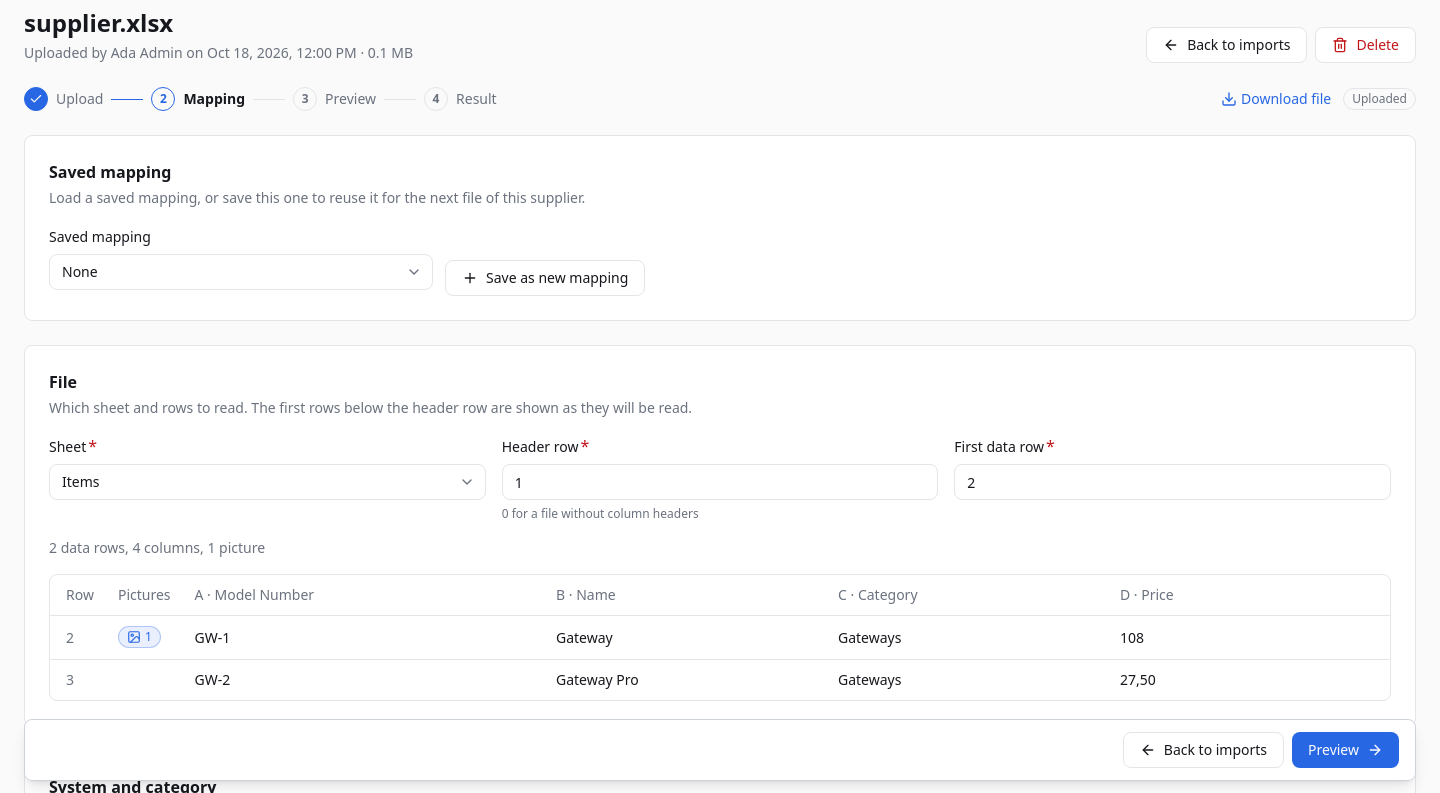
Test: ImportRunPage: mapping › reloads the source for another header row and shows mapping errors at their rows
Replace the text in the number field labelled "Header row" with "3" at (720, 482), box [502, 464, 938, 500]
(page scrolled)
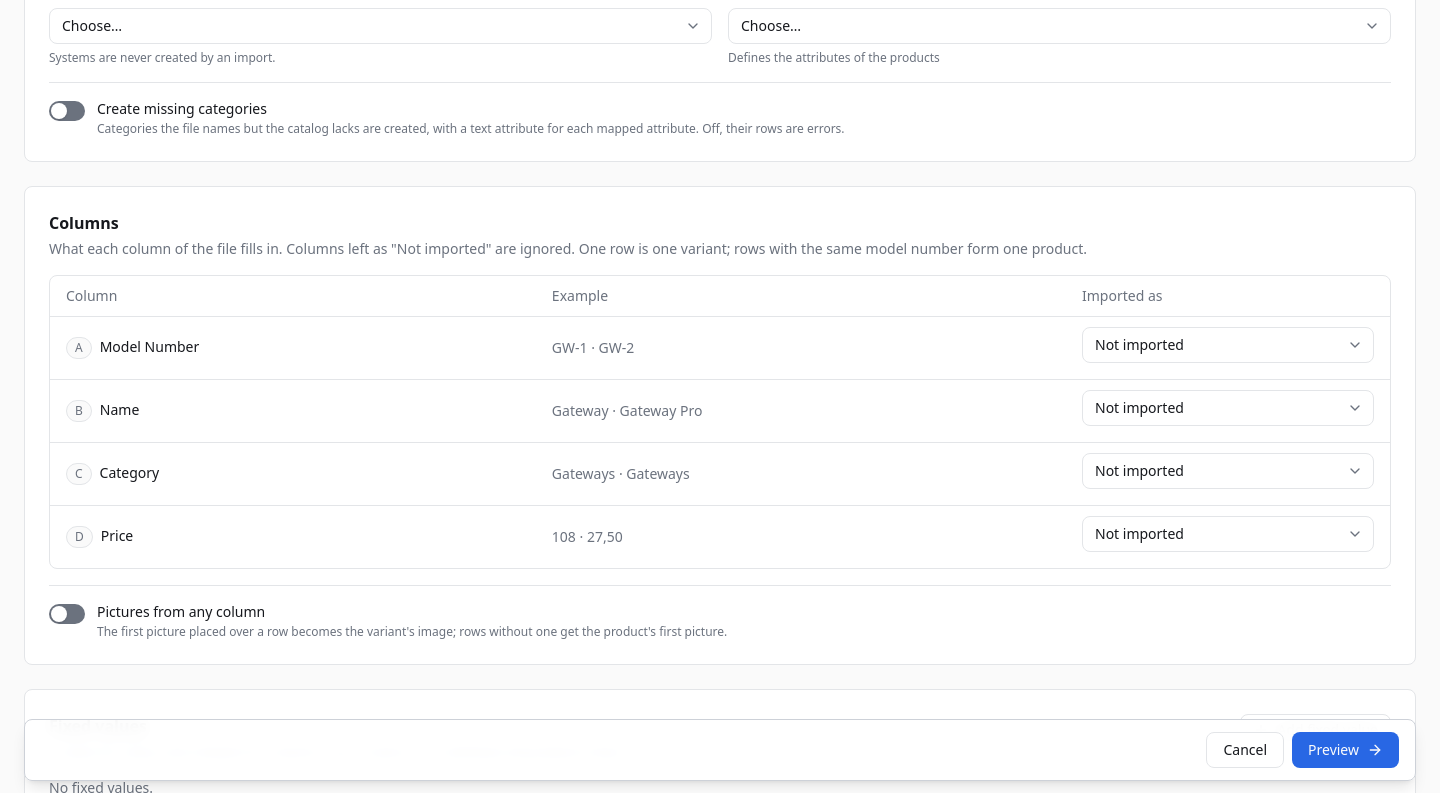
Click the dropdown named "Imported as: Model Number" at (1139, 344), box [1082, 327, 1374, 363]
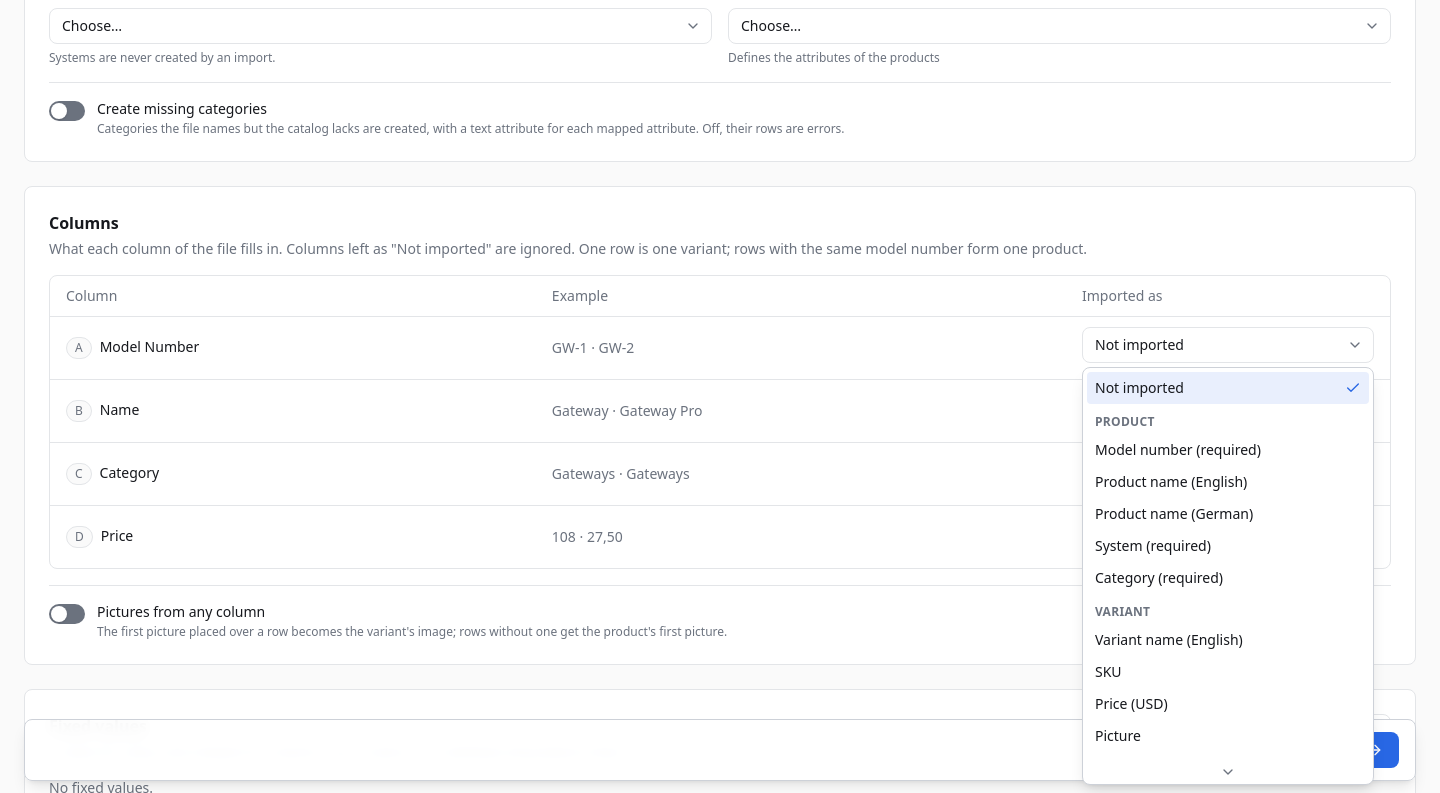
Click the option "Model number (required)" at (1178, 450), box [1095, 440, 1261, 459]
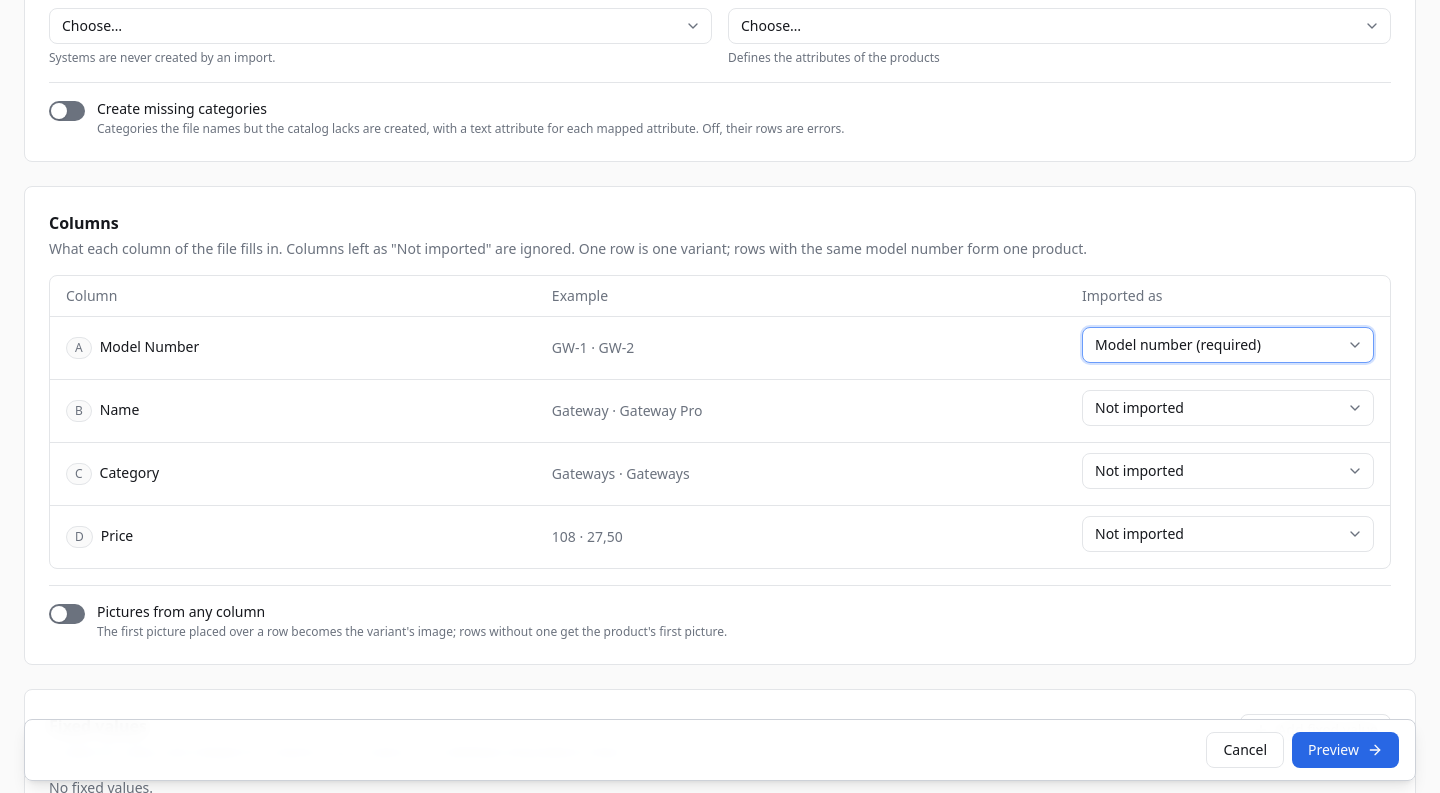
Click the button "Preview" at (1346, 750), box [1292, 732, 1399, 768]
(page scrolled)
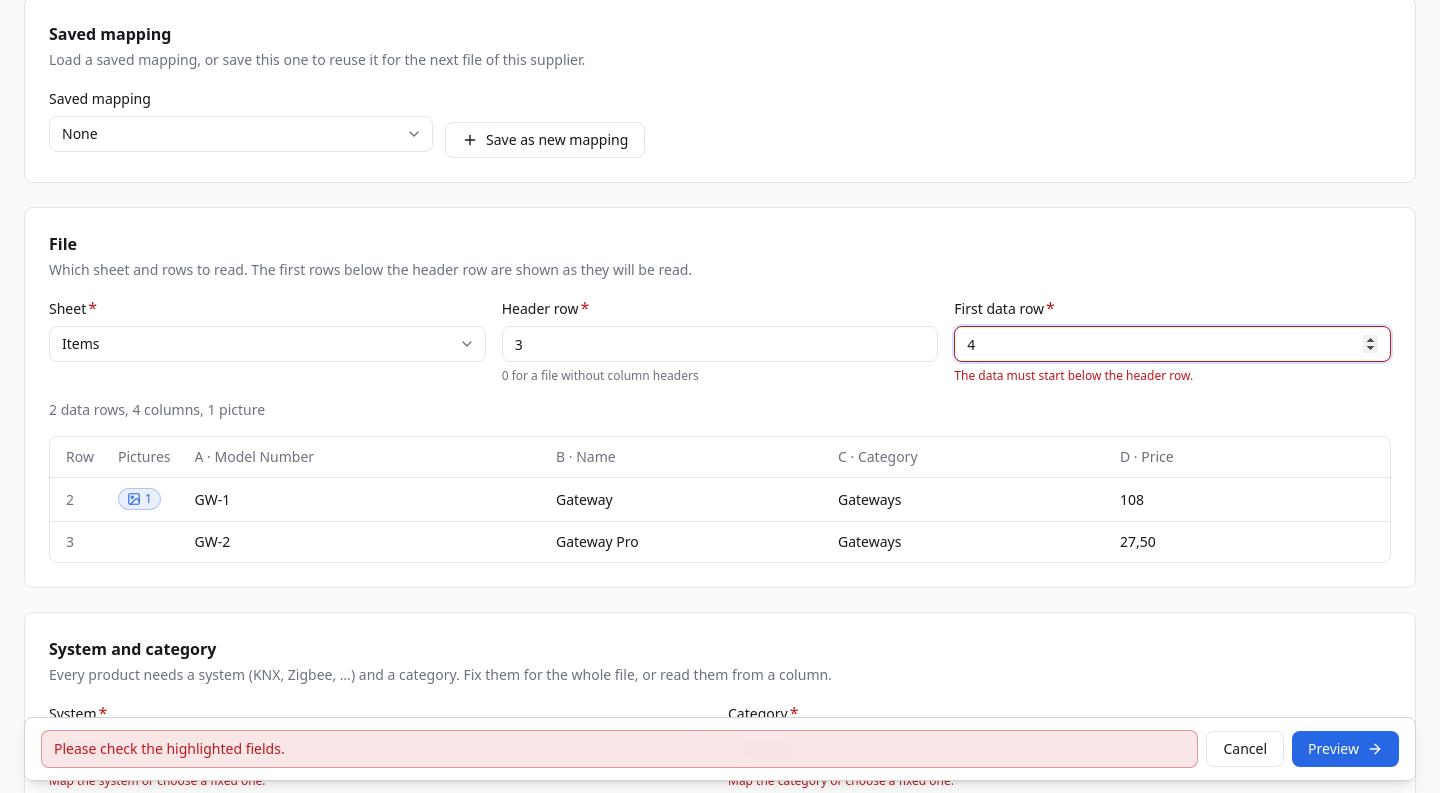
Result: the text "Map the system or choose a fixed one." is shown at [49, 772, 266, 789]
Result: the text "Map the category or choose a fixed one." is shown at [728, 772, 954, 789]
Result: the text "The data must start below the header row." is shown at [954, 367, 1193, 384]
